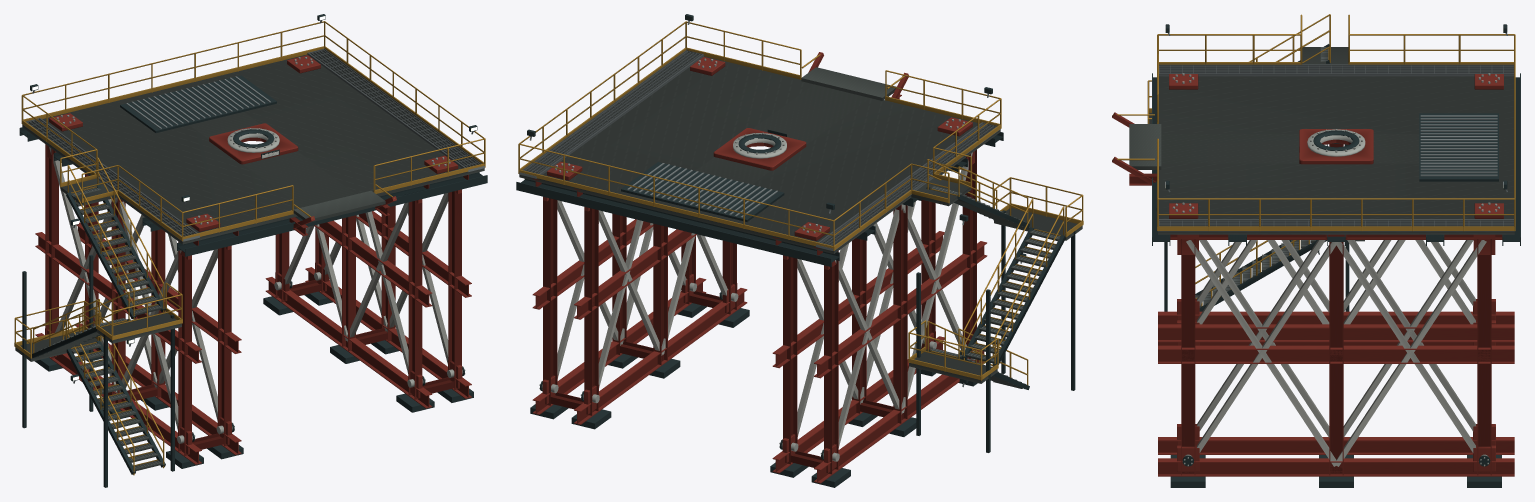
Rendered from substructure_drill_floor_lodH.glb.
The picture shows the model from 3 angles, left to right: view 1: azimuth 30°, elevation 25°; view 2: azimuth 150°, elevation 25°; view 3: azimuth 270°, elevation 25°; orthographic projection. The views are drawn at different scales.
Parts seen in each view (by area): view 1: drill_floor_deck, box_on_box_frames_oxide, box_on_box_frames_ivory, handrails_yellow, perimeter_grating_steel, setback_dark, floor_support_beams_dark, box_on_box_frames_dark, stairs_dark, flight_1_yellow, flight_1_deck, setback_steel (+15 smaller); view 2: box_on_box_frames_oxide, drill_floor_deck, box_on_box_frames_ivory, handrails_yellow, perimeter_grating_steel, floor_support_beams_dark, setback_dark, flight_2_yellow, box_on_box_frames_dark, flight_2_deck, stairs_dark, setback_steel (+12 smaller); view 3: drill_floor_deck, box_on_box_frames_oxide, box_on_box_frames_ivory, perimeter_grating_steel, handrails_yellow, setback_dark, setback_steel, hinges_pins_and_gussets_oxide, floor_support_beams_dark, derrick_mounts_oxide, rotary_table_oxide, box_on_box_frames_dark (+11 smaller).
Boxes of the visible parts, box(x1,y1,x2,y2) form: drill_floor_deck: box(22, 51, 484, 244); box_on_box_frames_oxide: box(35, 144, 471, 464); box_on_box_frames_ivory: box(49, 147, 448, 429); handrails_yellow: box(21, 21, 485, 241); perimeter_grating_steel: box(22, 48, 484, 241); setback_dark: box(120, 75, 276, 132); floor_support_beams_dark: box(19, 127, 487, 256); box_on_box_frames_dark: box(34, 291, 473, 468); stairs_dark: box(22, 254, 174, 487); flight_1_yellow: box(14, 300, 164, 475); flight_1_deck: box(15, 330, 162, 470); setback_steel: box(126, 76, 270, 128); box_on_box_frames_oxide: box(532, 149, 987, 483); drill_floor_deck: box(519, 52, 1000, 253); box_on_box_frames_ivory: box(557, 152, 972, 447); handrails_yellow: box(518, 21, 1001, 250); perimeter_grating_steel: box(519, 50, 1000, 250); floor_support_beams_dark: box(516, 132, 1003, 266); setback_dark: box(621, 162, 784, 221); flight_2_yellow: box(963, 177, 1083, 365); box_on_box_frames_dark: box(530, 303, 977, 487); flight_2_deck: box(965, 208, 1082, 363); stairs_dark: box(916, 210, 1075, 452); setback_steel: box(627, 163, 777, 217); drill_floor_deck: box(1158, 76, 1514, 234); box_on_box_frames_oxide: box(1158, 144, 1514, 476); box_on_box_frames_ivory: box(1186, 240, 1486, 466); perimeter_grating_steel: box(1158, 64, 1513, 231); handrails_yellow: box(1157, 34, 1515, 231); setback_dark: box(1419, 113, 1498, 181); setback_steel: box(1420, 115, 1497, 176); hinges_pins_and_gussets_oxide: box(1177, 240, 1495, 471); floor_support_beams_dark: box(1152, 73, 1520, 245); derrick_mounts_oxide: box(1169, 74, 1503, 218); rotary_table_oxide: box(1299, 129, 1373, 164); box_on_box_frames_dark: box(1170, 455, 1501, 487).
Bounding box in the file's own units: 15.26 × 10.54 × 12.83.
Materials: 9 (9 with a texture image).
